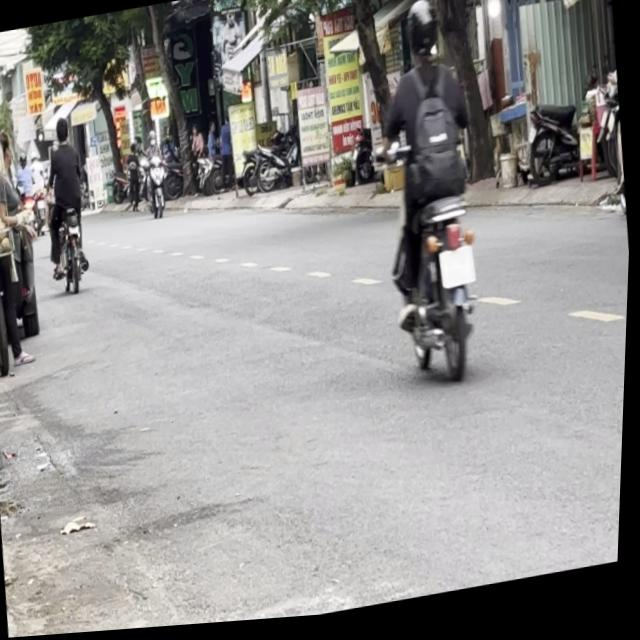helmet: (401, 0, 446, 74)
licenseplate: (360, 0, 503, 396)
nohelmet: (440, 253, 479, 294)
